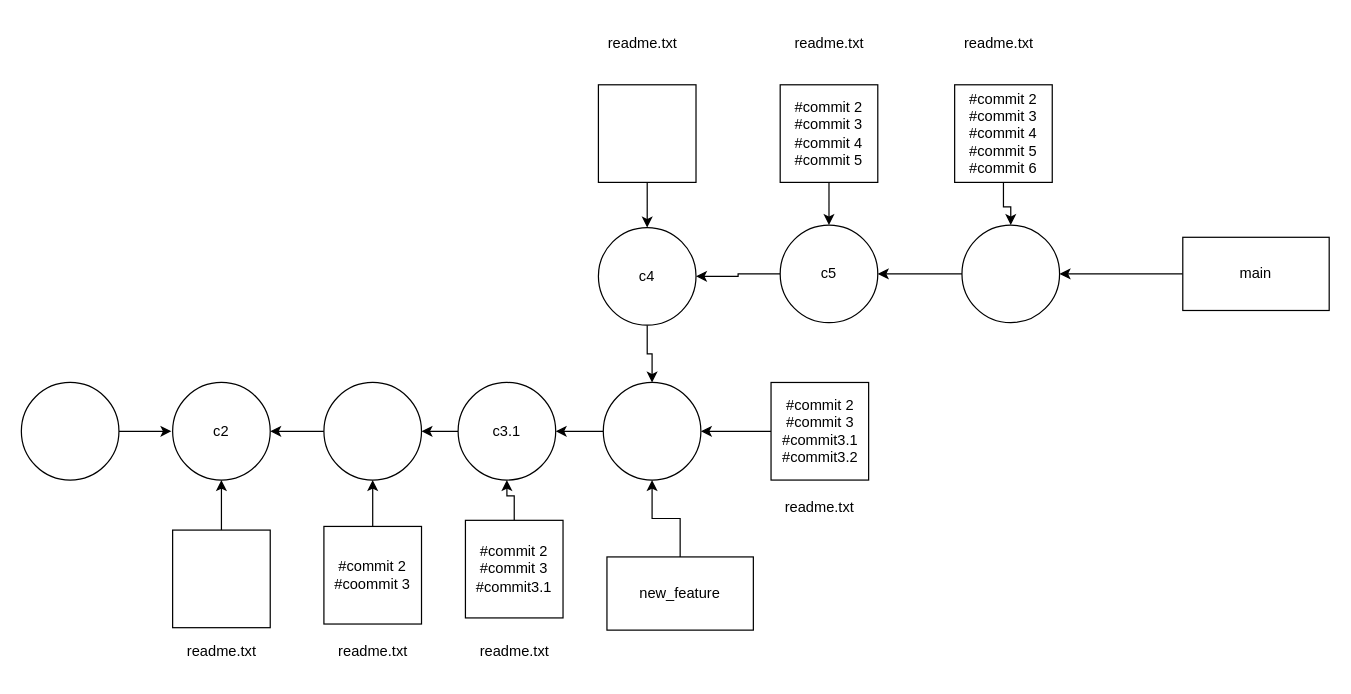
Some shapes in this 1351 by 694 pixel diagram are drawn without their labels. The shapes that lost their labels are listed below. From the top down, each one's centre as x and y in pixels, then its label:
point 646,133: #commit 2 #commit 3 #commit 4
point 1010,273: c6
point 69,430: start commit
point 372,430: c3
point 651,430: c3.2
point 220,578: #commit 2
